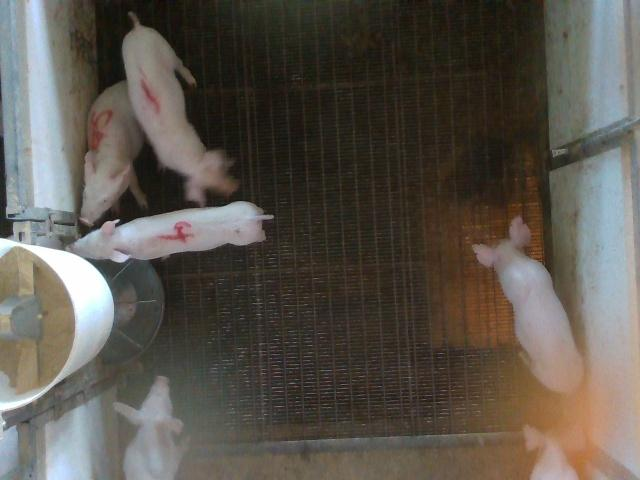pig-1: (122, 12, 239, 206)
pig-4: (69, 201, 272, 262)
pig-5: (80, 81, 148, 226)
